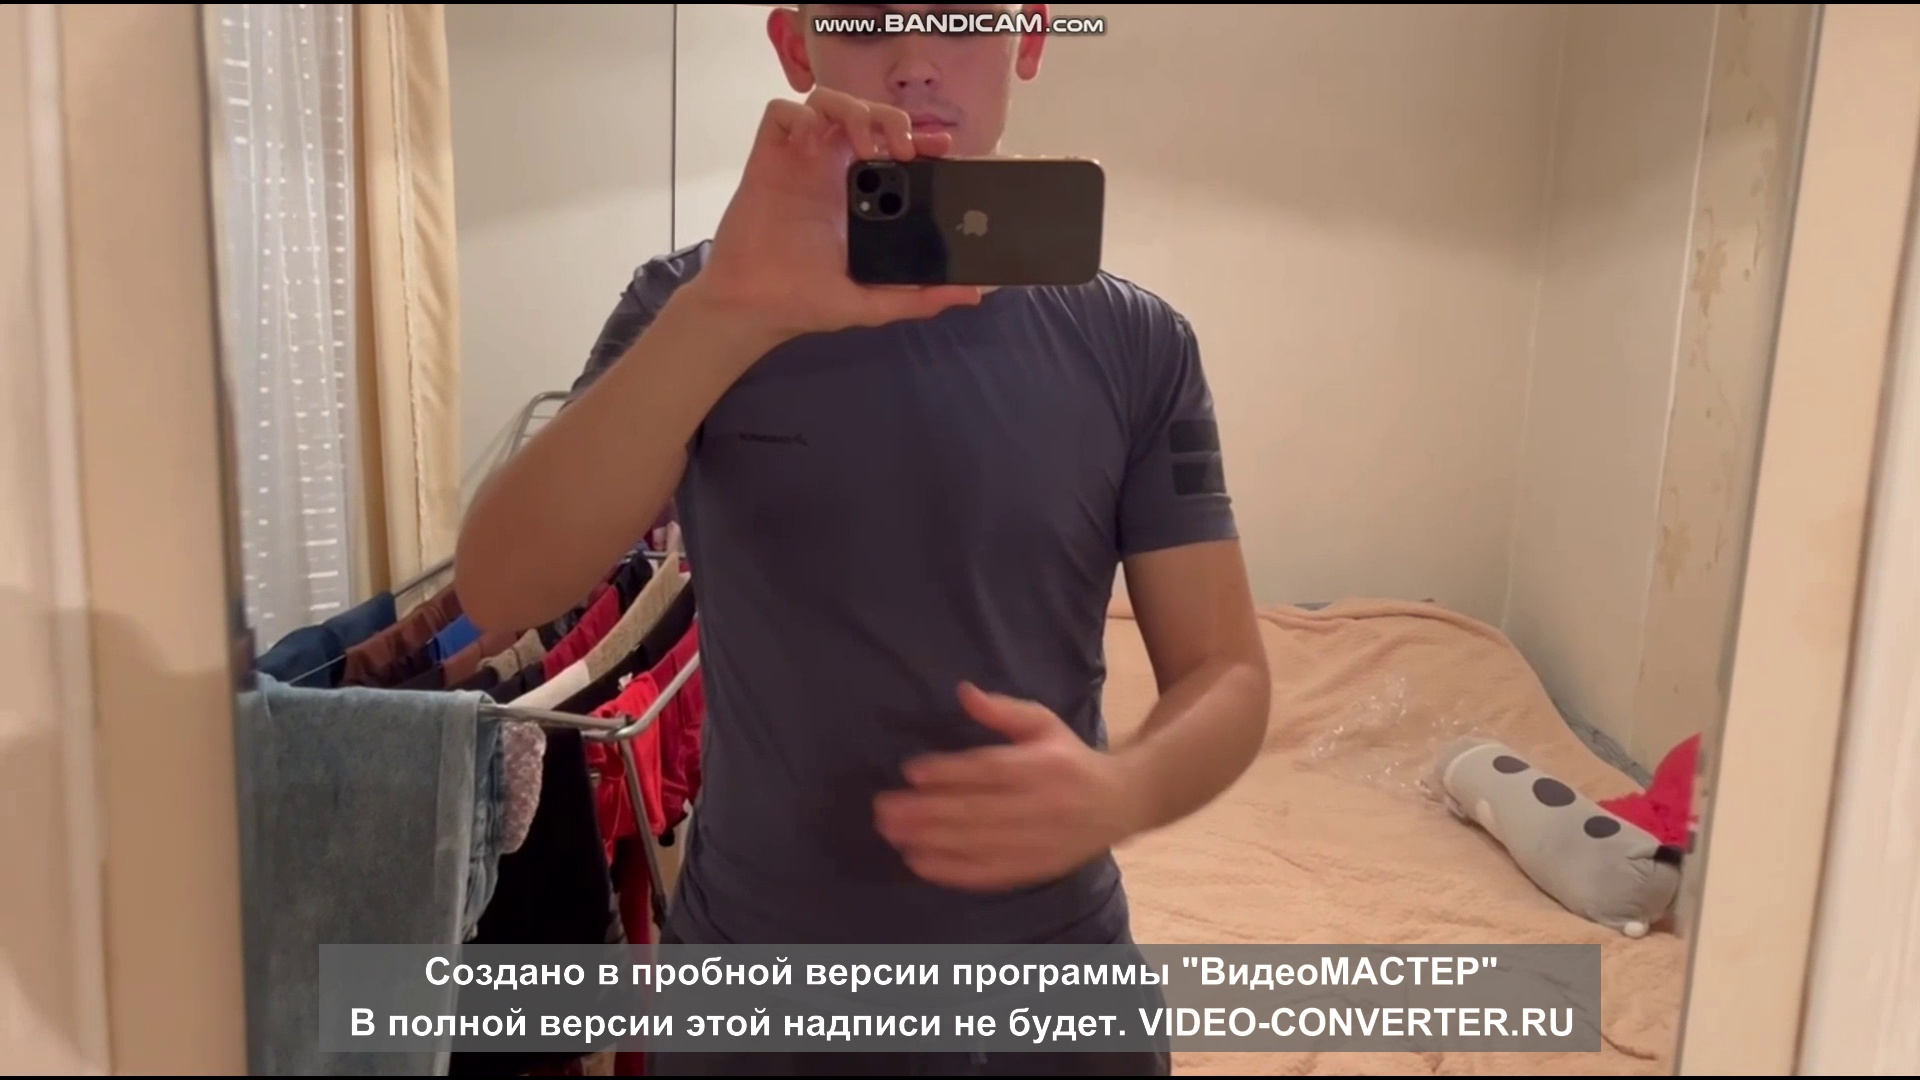Кисть: (877, 680, 1102, 894)
